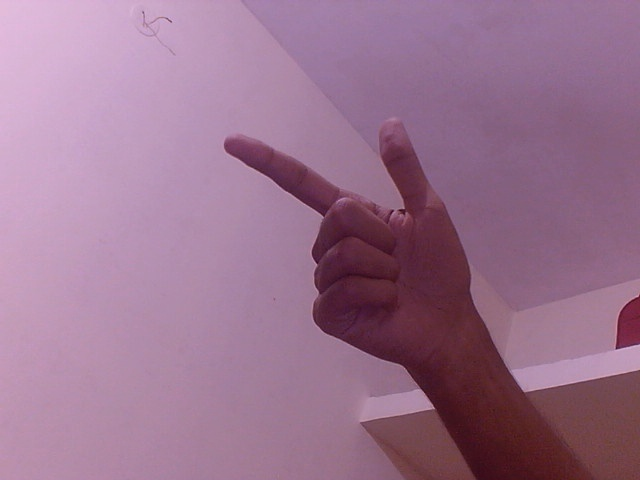hand: (217, 115, 482, 385)
